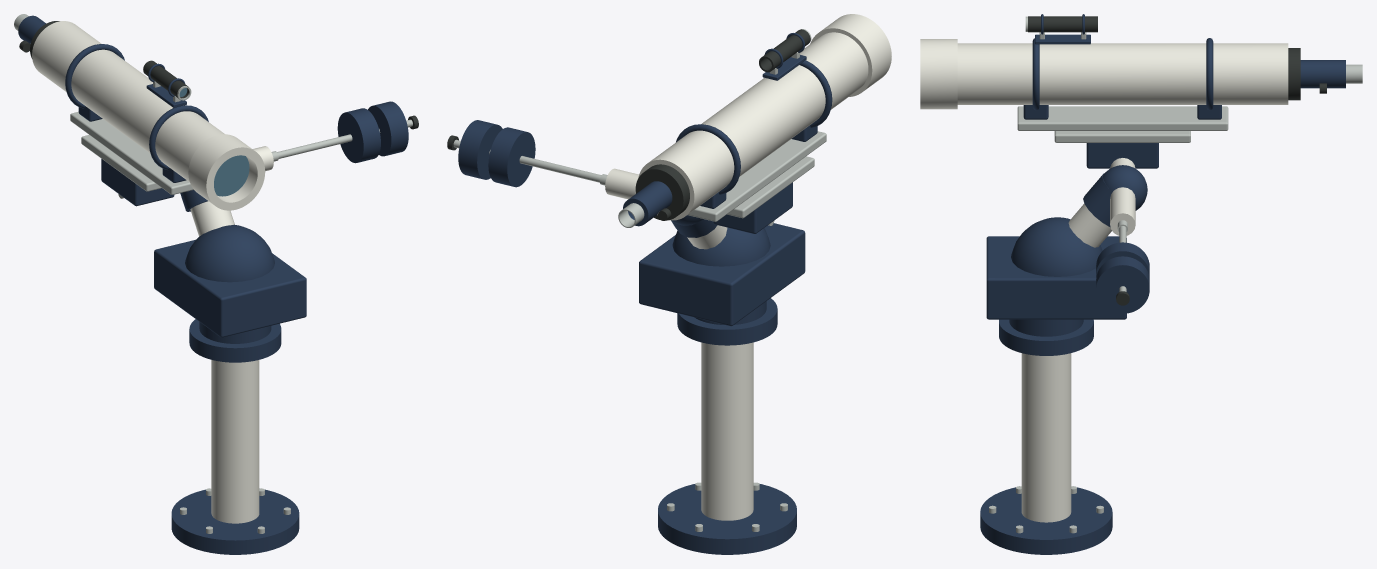
Rendered from telescope.glb.
3 renders of one model, left to right at view 1: azimuth 30°, elevation 25°; view 2: azimuth 150°, elevation 25°; view 3: azimuth 270°, elevation 25°, orthographic. The views are drawn at different scales.
Visible parts, largest first — view 1: 050-equatorial-mount/3, 052-refracting-telescope-tube/2, 049-telescope-pier/1, 049-telescope-pier/2, 051-counterweight-assembly/2, 052-refracting-telescope-tube/0, 052-refracting-telescope-tube/3, 050-equatorial-mount/2, 050-equatorial-mount/0, 052-refracting-telescope-tube/4, 056-finder-scope/1, 051-counterweight-assembly/0 (+1 smaller); view 2: 052-refracting-telescope-tube/2, 050-equatorial-mount/3, 049-telescope-pier/1, 049-telescope-pier/2, 051-counterweight-assembly/2, 052-refracting-telescope-tube/0, 052-refracting-telescope-tube/3, 050-equatorial-mount/0, 052-refracting-telescope-tube/1, 050-equatorial-mount/2, 053-focuser-assembly/2, 056-finder-scope/1 (+2 smaller); view 3: 052-refracting-telescope-tube/2, 050-equatorial-mount/3, 049-telescope-pier/1, 049-telescope-pier/2, 052-refracting-telescope-tube/0, 051-counterweight-assembly/2, 050-equatorial-mount/2, 052-refracting-telescope-tube/3, 050-equatorial-mount/0, 053-focuser-assembly/2, 056-finder-scope/1, 056-finder-scope/2 (+1 smaller).
Boxes of the visible parts, x1,y1,x2,y2 form: 050-equatorial-mount/3: (101, 159, 306, 343); 052-refracting-telescope-tube/2: (32, 21, 265, 210); 049-telescope-pier/1: (211, 360, 259, 523); 049-telescope-pier/2: (171, 319, 299, 554); 051-counterweight-assembly/2: (337, 101, 408, 163); 052-refracting-telescope-tube/0: (70, 111, 193, 194); 052-refracting-telescope-tube/3: (65, 44, 208, 182); 050-equatorial-mount/2: (190, 146, 273, 236); 050-equatorial-mount/0: (81, 135, 278, 198); 052-refracting-telescope-tube/4: (214, 155, 249, 196); 056-finder-scope/1: (143, 60, 188, 99); 051-counterweight-assembly/0: (277, 119, 412, 158); 052-refracting-telescope-tube/2: (638, 14, 891, 220); 050-equatorial-mount/3: (639, 182, 805, 326); 049-telescope-pier/1: (701, 342, 753, 520); 049-telescope-pier/2: (658, 298, 796, 554); 051-counterweight-assembly/2: (458, 120, 535, 187); 052-refracting-telescope-tube/0: (688, 131, 826, 221); 052-refracting-telescope-tube/3: (676, 60, 832, 208); 050-equatorial-mount/0: (599, 156, 814, 225); 052-refracting-telescope-tube/1: (635, 164, 689, 220); 050-equatorial-mount/2: (605, 168, 727, 249); 053-focuser-assembly/2: (623, 181, 672, 226); 056-finder-scope/1: (759, 29, 810, 72); 052-refracting-telescope-tube/2: (920, 39, 1288, 109); 050-equatorial-mount/3: (986, 143, 1158, 336); 049-telescope-pier/1: (1021, 353, 1071, 522); 049-telescope-pier/2: (980, 319, 1112, 554); 052-refracting-telescope-tube/0: (1017, 106, 1228, 130); 051-counterweight-assembly/2: (1096, 242, 1149, 313); 050-equatorial-mount/2: (1068, 158, 1135, 247); 052-refracting-telescope-tube/3: (1023, 38, 1221, 119); 050-equatorial-mount/0: (1054, 131, 1190, 231); 053-focuser-assembly/2: (1300, 60, 1345, 88); 056-finder-scope/1: (1028, 16, 1097, 32); 056-finder-scope/2: (1035, 14, 1090, 44).
Bounding box in the file's own units: 1.78 × 2.57 × 2.14.
